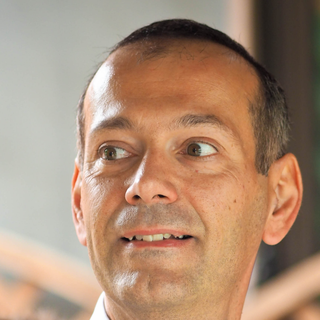eye: (176, 136, 222, 163), (95, 140, 140, 164)
